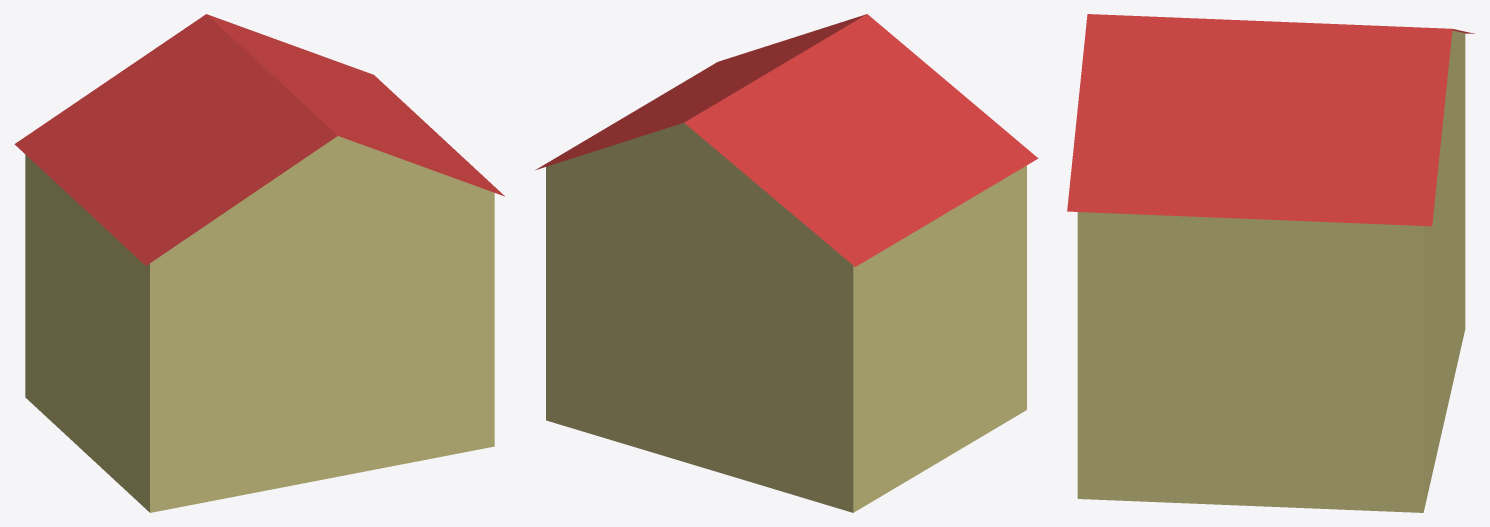
3 views of the same model, side by side, from view 1: azimuth 30°, elevation 25°; view 2: azimuth 150°, elevation 25°; view 3: azimuth 270°, elevation 25° (orthographic). The views are drawn at different scales.
Parts seen in each view (by area): view 1: group_5, group_3, group_4; view 2: group_5, group_3, group_4; view 3: group_5, group_3, group_4.
Part boxes in pixels (x1,y1,x2,y2): group_5: (25,136,494,512); group_3: (15,14,493,265); group_4: (14,14,504,242); group_5: (546,123,1026,512); group_3: (546,14,1038,265); group_4: (535,14,1003,266); group_5: (1077,30,1465,512); group_3: (1077,14,1474,223); group_4: (1067,14,1452,226).
Bounding box in the file's own units: 12.74 × 10.62 × 11.43.
